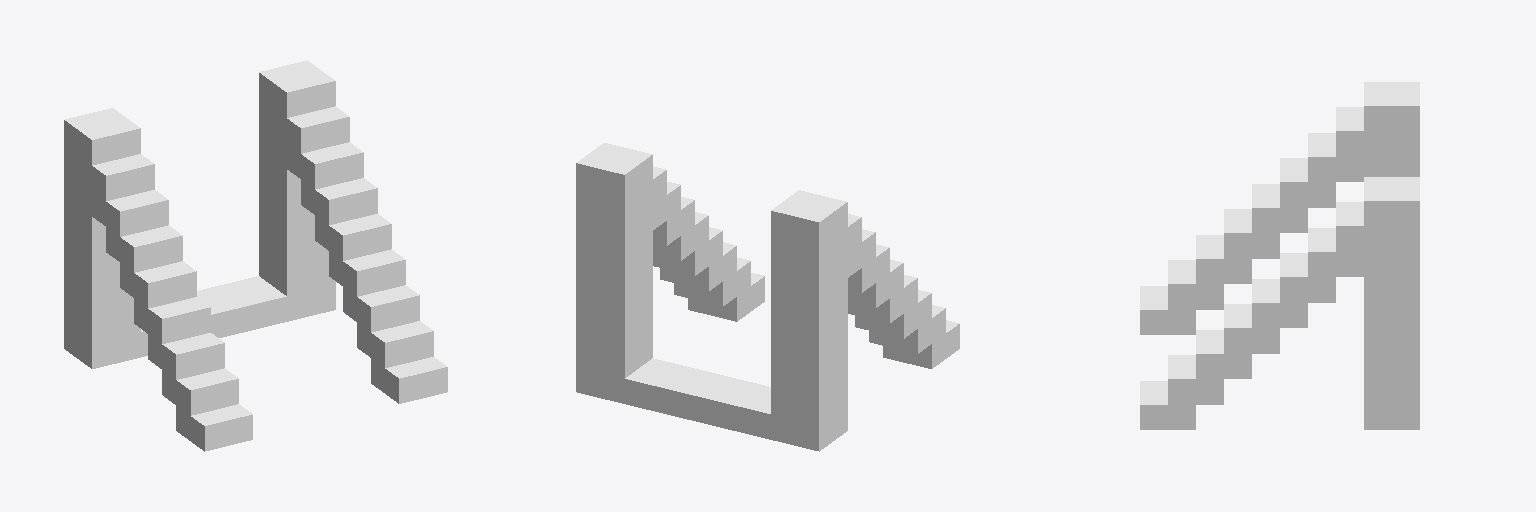
The model's file is bridge-1.obj.
3 renders of one model, left to right at view 1: azimuth 30°, elevation 25°; view 2: azimuth 150°, elevation 25°; view 3: azimuth 270°, elevation 25°, orthographic.
Parts seen in each view (by area): view 1: object 1; view 2: object 1; view 3: object 1.
Boxes of the visible parts, <box> form: object 1: <box>64,60,447,451</box>; object 1: <box>576,143,959,451</box>; object 1: <box>1140,82,1419,429</box>.
Size of the model in its own units: 1 by 0.9 by 1.